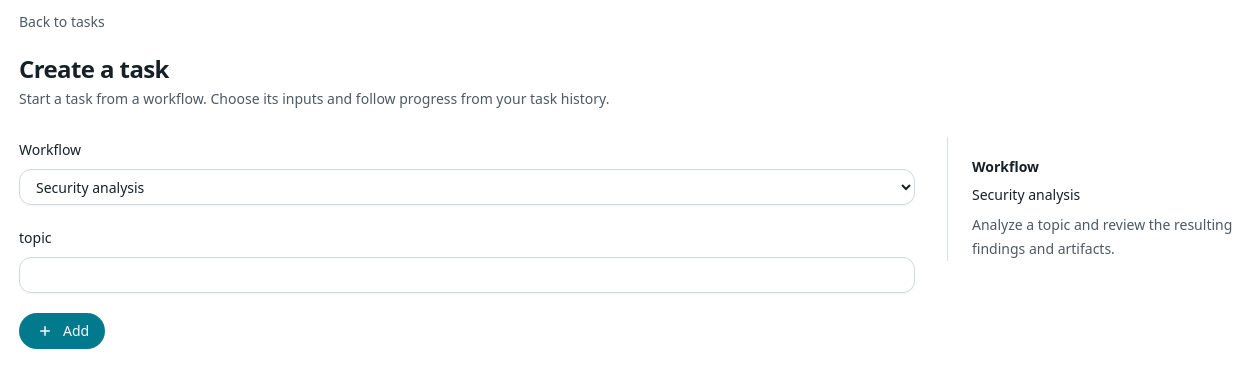
Test case: task views › submits creation through the typed API and navigates to detail
Type "smoke" into the field labelled "topic" at (467, 275), box [19,257,915,293]
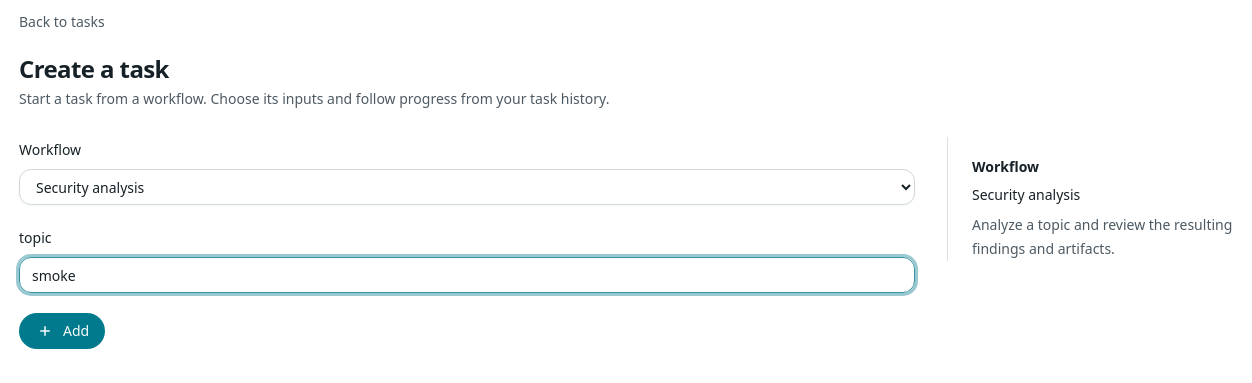
Click the button "Add" at (62, 331), box [19,313,105,349]
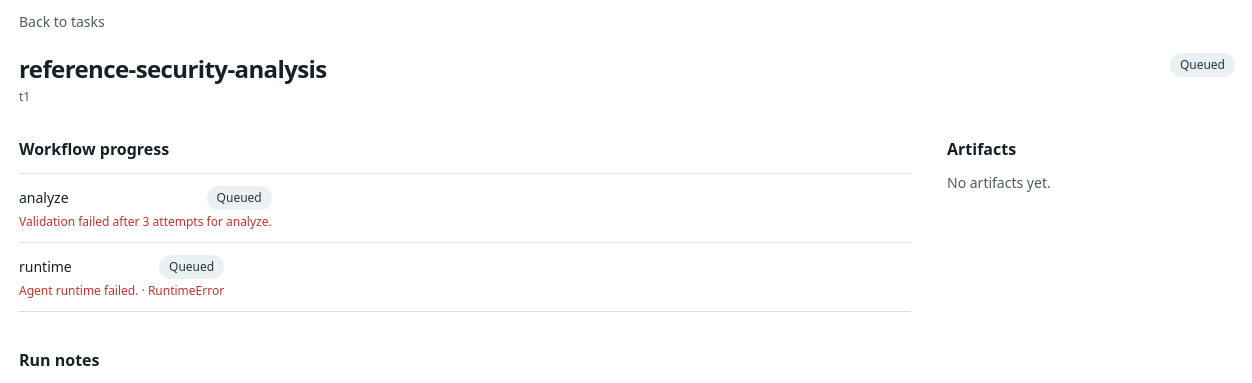
Result: the heading "reference-security-analysis" is shown at [19,53,327,85]
